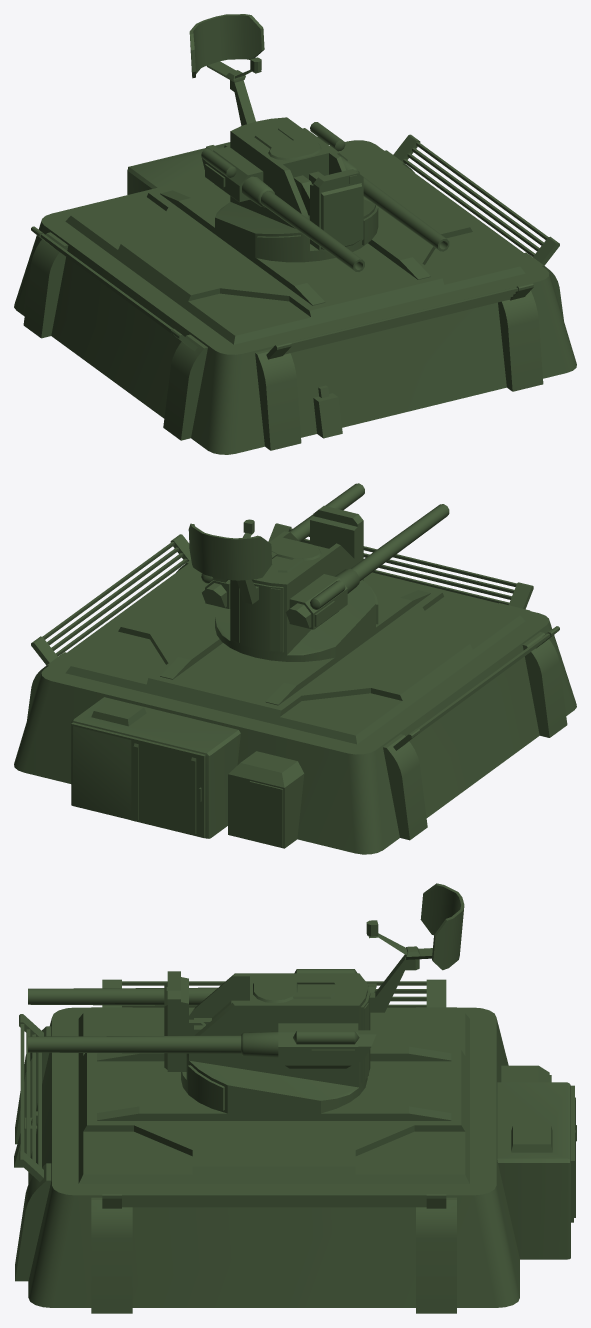
The model's file is Ground_Air_Turret_Level3.fbx.
The picture shows the model from 3 angles, top to bottom: view 1: azimuth 30°, elevation 25°; view 2: azimuth 150°, elevation 25°; view 3: azimuth 270°, elevation 25°; orthographic projection. The views are drawn at different scales.
Visible parts, largest first — view 1: Base.002, Turret.002, SearchRadar, Radar.002, Breech3, Gun2.001, Gun1.001; view 2: Base.002, Turret.002, SearchRadar, Breech3, Radar.002, Gun2.001, Gun1.001; view 3: Base.002, Turret.002, Breech3, Gun1.001, SearchRadar, Gun2.001, Radar.002.
Part boxes in pixels (x1,y1,x2,y2): Base.002: [14, 134, 576, 454]; Turret.002: [215, 80, 378, 262]; SearchRadar: [189, 14, 264, 82]; Radar.002: [310, 169, 363, 252]; Breech3: [201, 122, 359, 207]; Gun2.001: [261, 191, 364, 271]; Gun1.001: [363, 176, 449, 251]; Base.002: [14, 523, 576, 854]; Turret.002: [215, 531, 378, 661]; SearchRadar: [188, 519, 272, 582]; Breech3: [201, 568, 359, 629]; Radar.002: [310, 505, 363, 580]; Gun2.001: [351, 504, 449, 581]; Gun1.001: [289, 483, 364, 541]; Base.002: [14, 979, 576, 1313]; Turret.002: [181, 955, 419, 1113]; Breech3: [241, 969, 376, 1068]; Gun1.001: [28, 1035, 241, 1053]; SearchRadar: [366, 883, 464, 970]; Gun2.001: [28, 987, 217, 1005]; Radar.002: [164, 971, 205, 1071].
Size of the model in its own units: 623 by 399 by 677.
